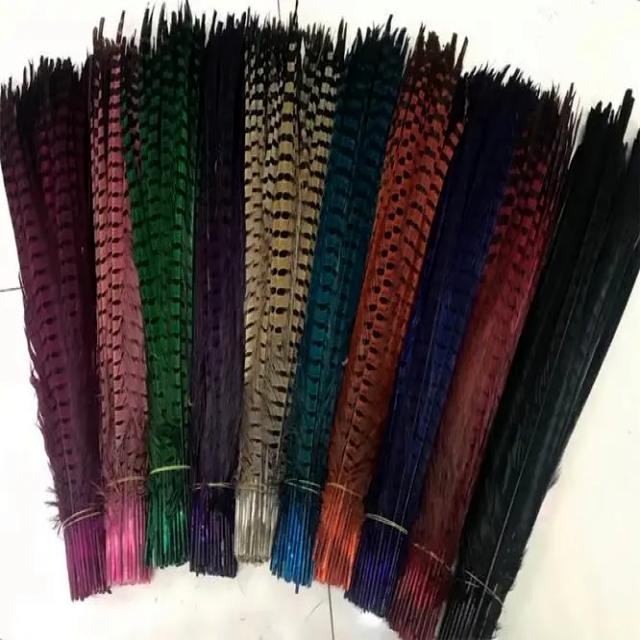Phasianus Colchicus: (1, 2, 638, 639)
